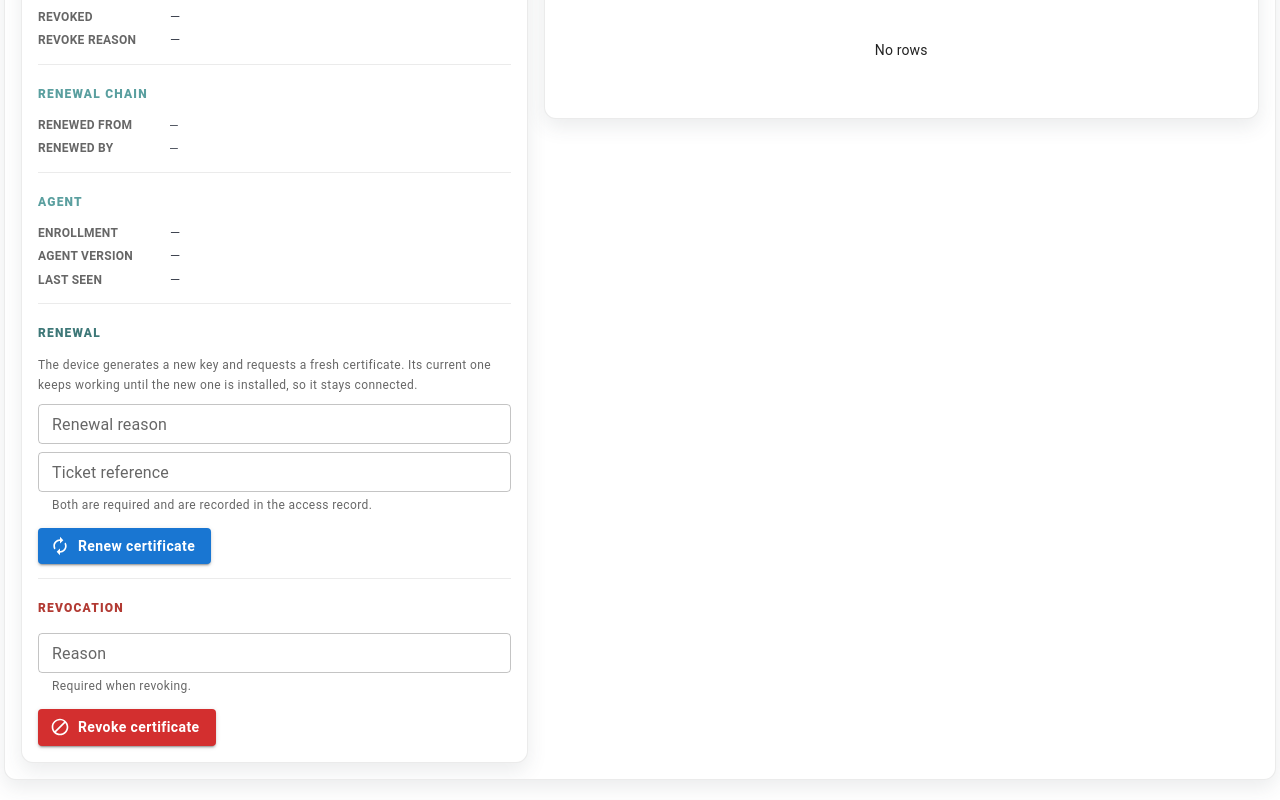
PKI — renovar la identidad de un equipo › ⚠️ un 202 `pending_approval` NO se pinta como fallo
(page scrolled)
Type "corte a la G2" into the field labelled "Renewal reason" at (274, 424), box x1=38 y1=404 x2=510 y2=444
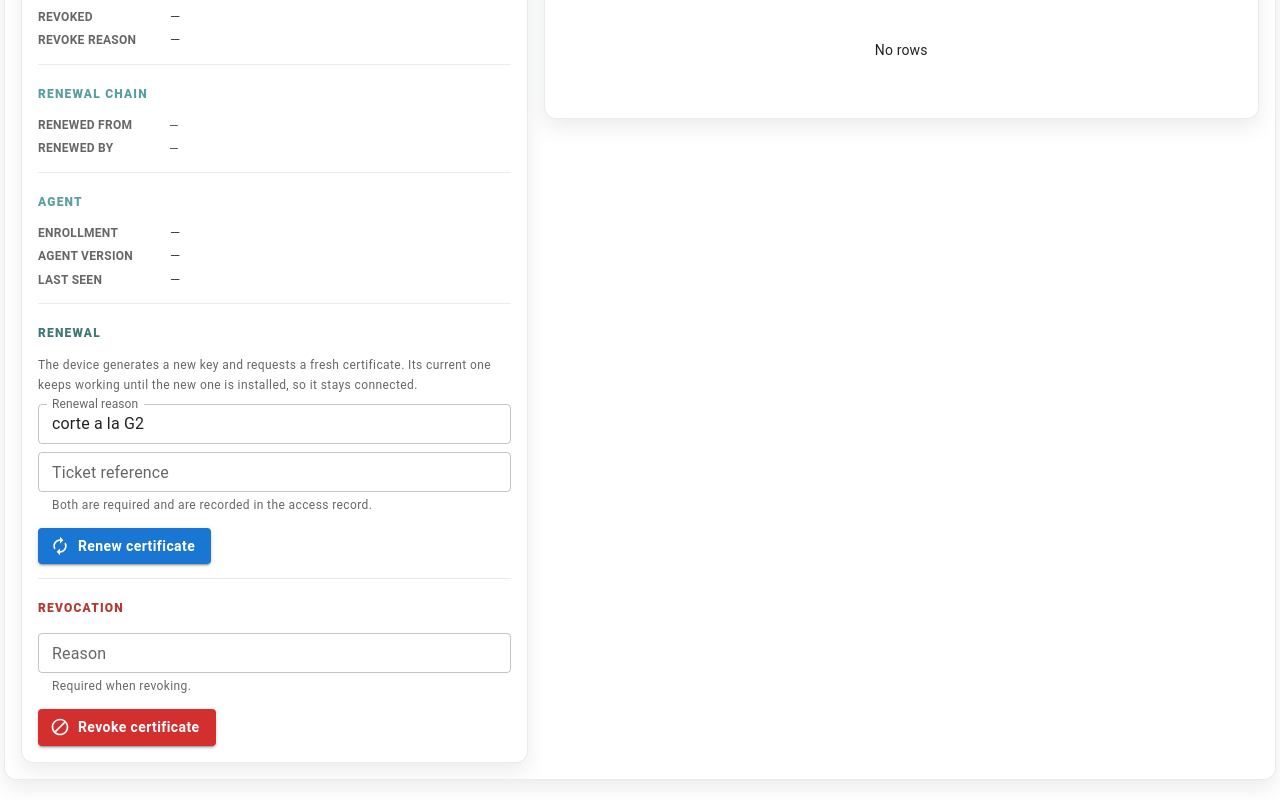
Type "ADR-0015-ring-1" into the field labelled "Ticket reference" at (274, 472), box x1=38 y1=452 x2=510 y2=492
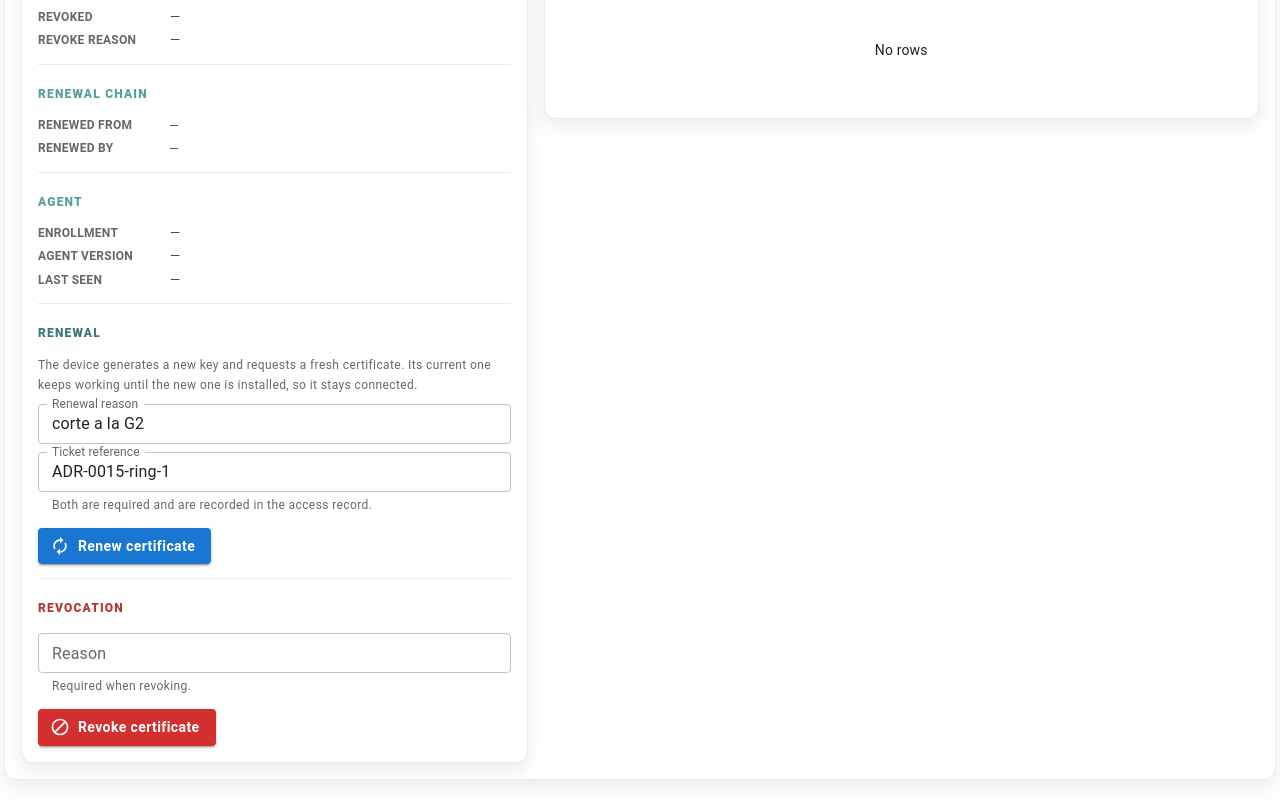
Click the button "Renew certificate" at (125, 546), box x1=38 y1=528 x2=211 y2=564
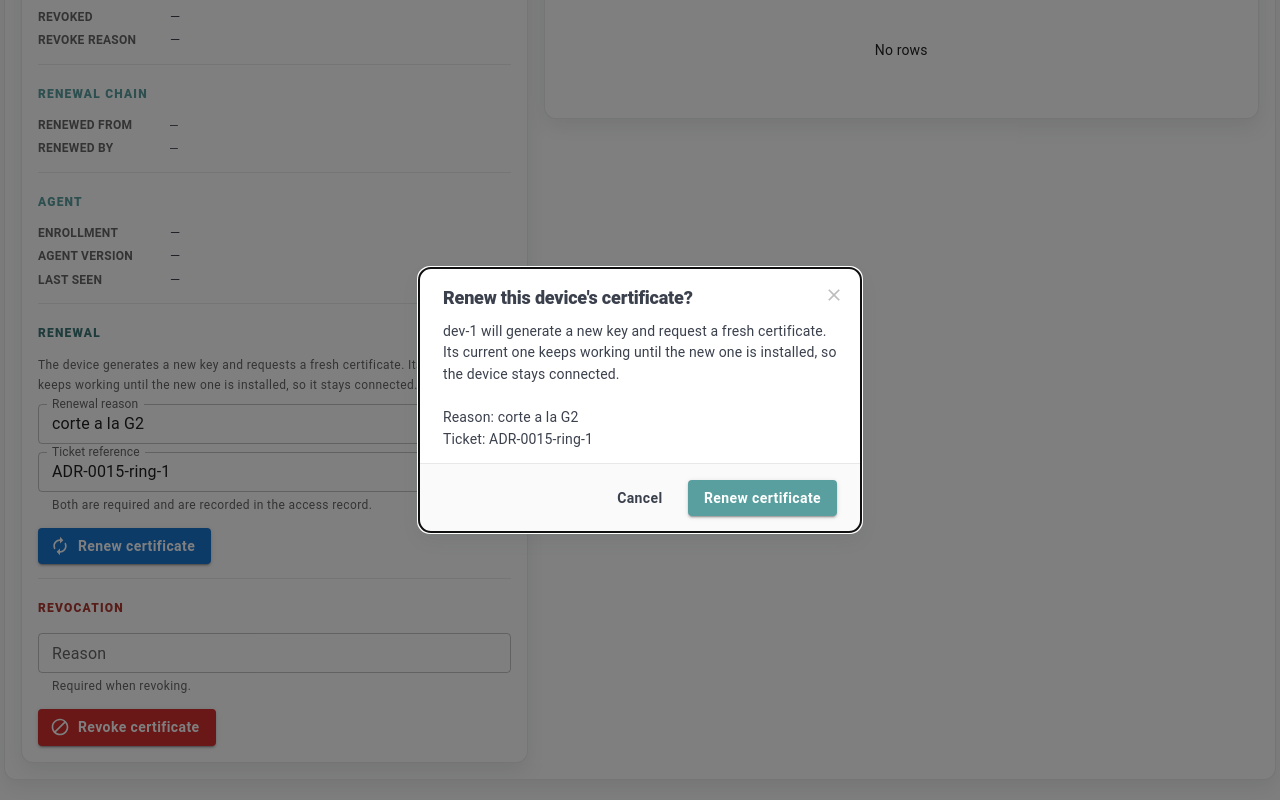
Click the button "Renew certificate" at (762, 498), box x1=688 y1=480 x2=837 y2=516
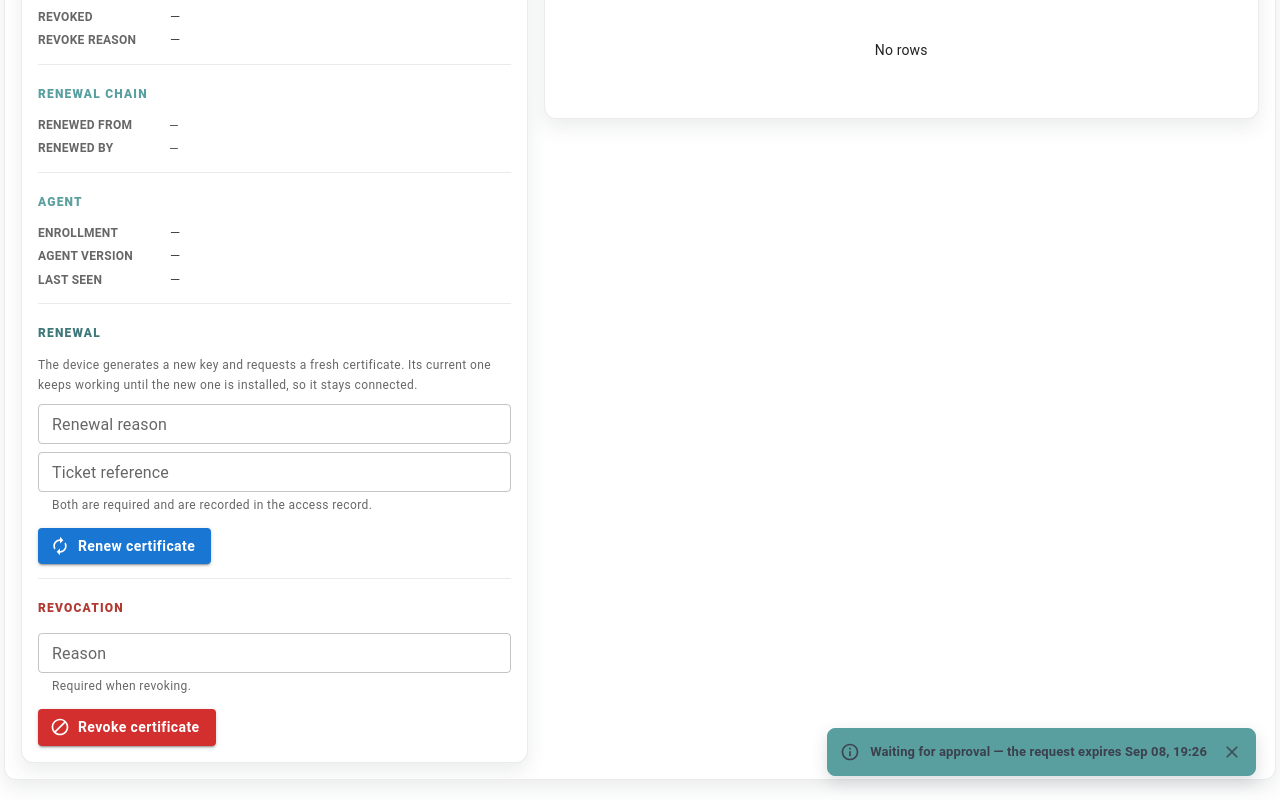
Now the text "Waiting for approval — the request expires Sep 08, 19:26" is shown, box x1=870 y1=743 x2=1207 y2=761
